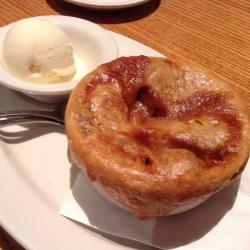apple_pie: (68, 52, 250, 224)
icecream: (1, 17, 78, 91)
